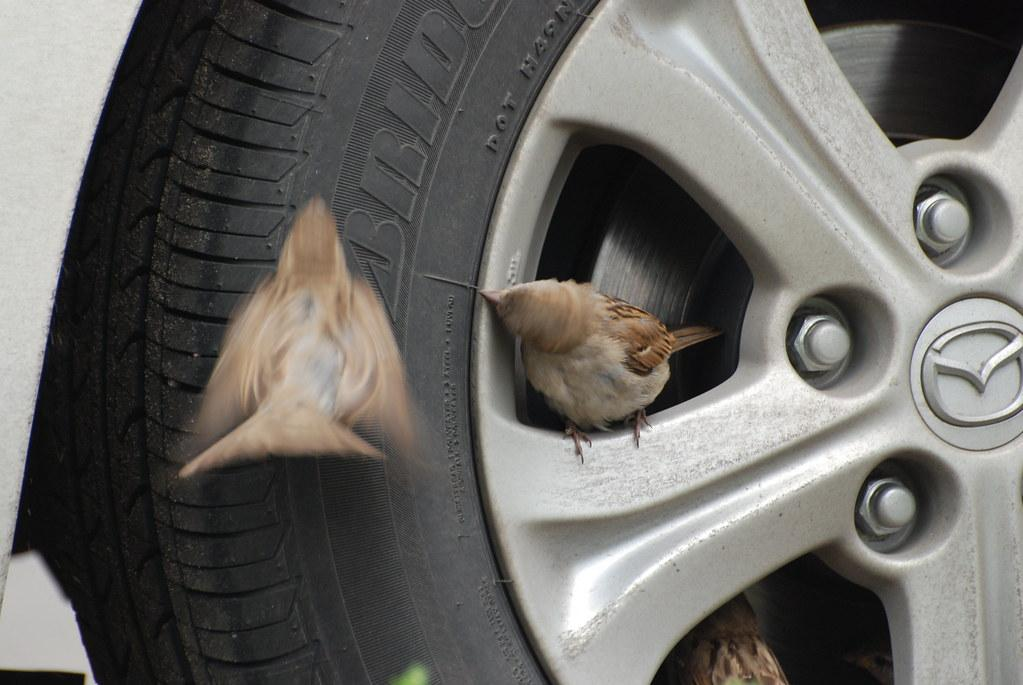car: (2, 1, 1022, 685)
